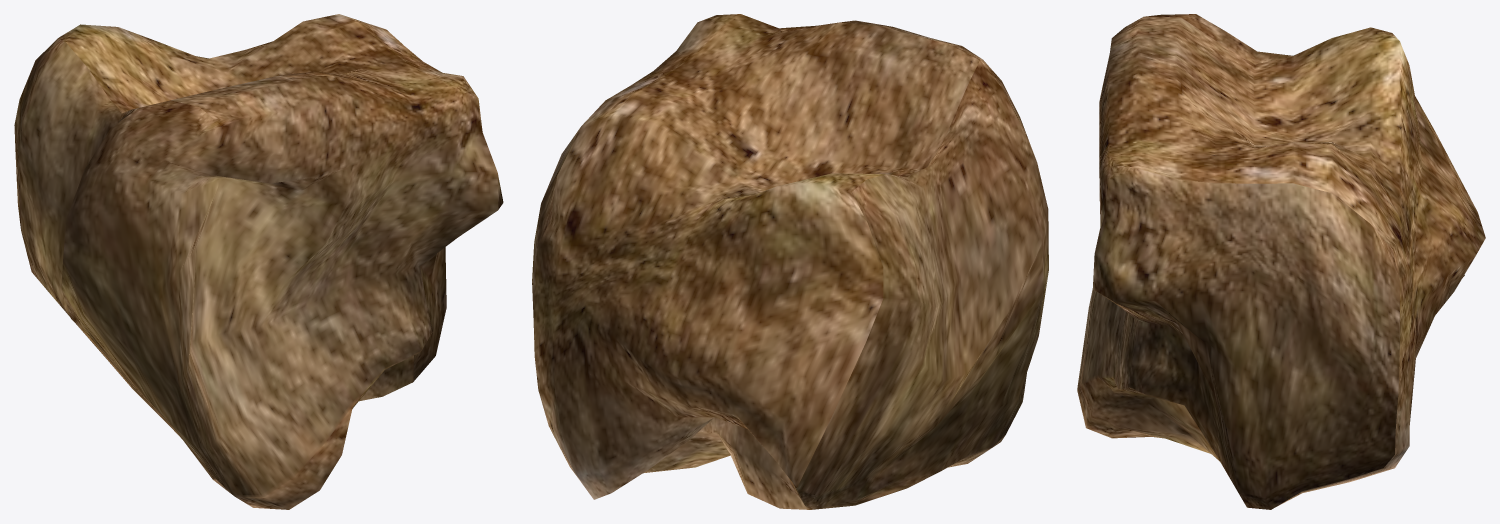
The model's file is block.obj.
The picture shows the model from 3 angles, left to right: view 1: azimuth 30°, elevation 25°; view 2: azimuth 150°, elevation 25°; view 3: azimuth 270°, elevation 25°; orthographic projection. The views are drawn at different scales.
Visible parts, largest first — view 1: pCube1; view 2: pCube1; view 3: pCube1.
Boxes of the visible parts, x1,y1,x2,y2 form: pCube1: [14, 14, 503, 509]; pCube1: [532, 14, 1048, 509]; pCube1: [1077, 14, 1485, 509].
Bounding box in the file's own units: 1.41 × 1.38 × 1.32.
Materials: 1 (1 with a texture image).
